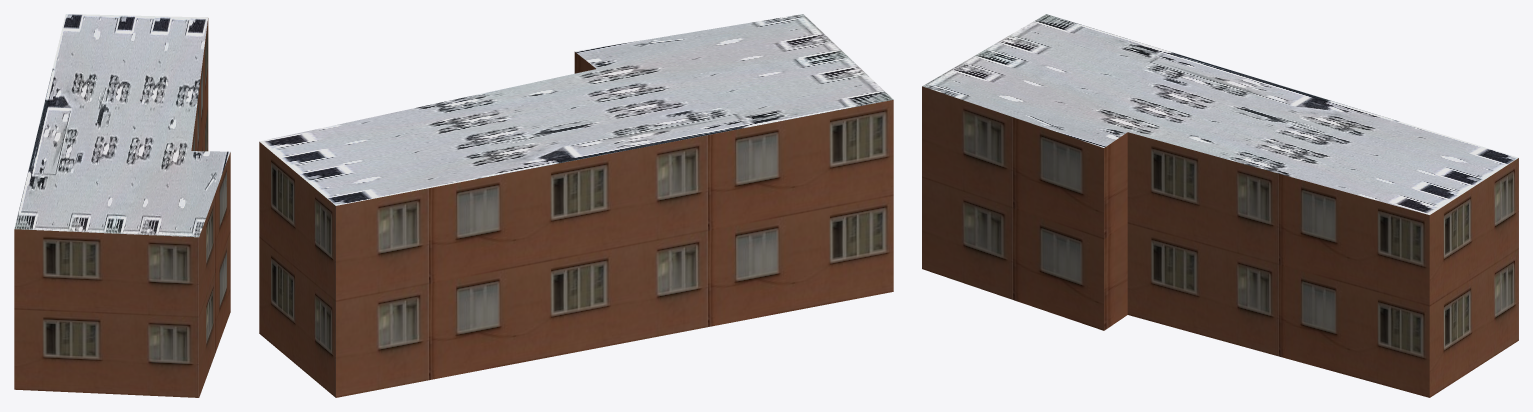
The model's file is ResTex__5334.fbx.
3 views of the same model, side by side, from view 1: azimuth 30°, elevation 25°; view 2: azimuth 150°, elevation 25°; view 3: azimuth 270°, elevation 25° (orthographic). The views are drawn at different scales.
Parts seen in each view (by area): view 1: CityEngineMaterial_4_m, CityEngineMaterial_20_m; view 2: CityEngineMaterial_20_m, CityEngineMaterial_4_m; view 3: CityEngineMaterial_20_m, CityEngineMaterial_4_m.
Part boxes in pixels (bbox=[...]): CityEngineMaterial_4_m: bbox=[14, 14, 230, 237]; CityEngineMaterial_20_m: bbox=[14, 18, 230, 397]; CityEngineMaterial_20_m: bbox=[259, 52, 893, 397]; CityEngineMaterial_4_m: bbox=[259, 14, 893, 205]; CityEngineMaterial_20_m: bbox=[922, 86, 1518, 397]; CityEngineMaterial_4_m: bbox=[922, 14, 1518, 214].
Bounding box in the file's own units: 14.16 × 6 × 17.76.
2 materials, 2 textured.
